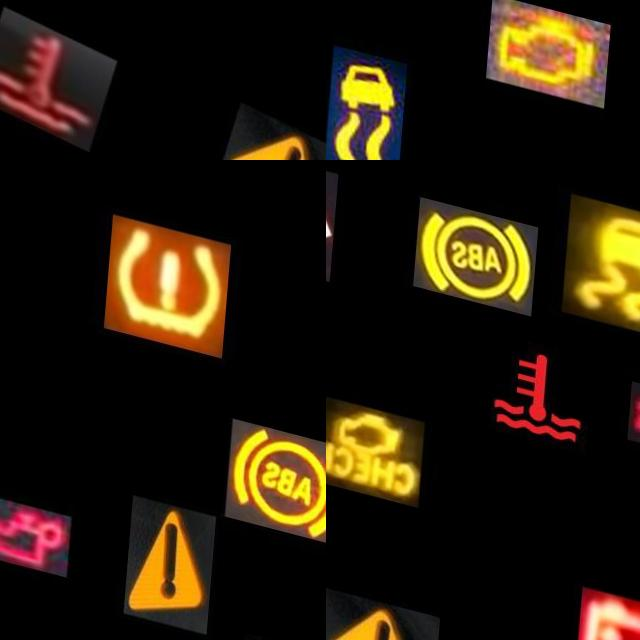Central Warning lamp: (131, 473, 221, 608), (209, 78, 326, 160), (326, 575, 448, 640)
Engine cooling system: (481, 301, 606, 444), (0, 0, 120, 145)
